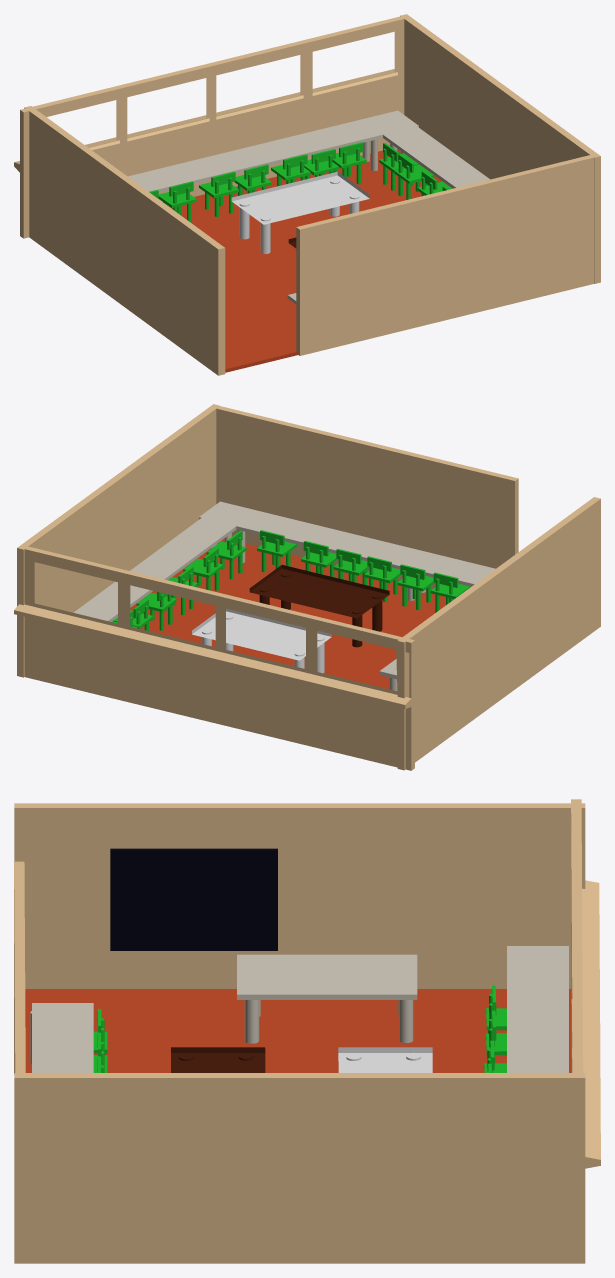
Rendered from info3.glb.
3 views of the same model, one above another, from view 1: azimuth 30°, elevation 25°; view 2: azimuth 150°, elevation 25°; view 3: azimuth 270°, elevation 25° (orthographic). The views are drawn at different scales.
Visible parts, largest first — view 1: Cube.002, Cube, Cube.003, Cube.001, suelo, Cylinder.004, mesa.001, silla.014, silla.002, silla.003, silla.015, silla (+3 smaller); view 2: Cube.003, Cube.002, Cube, Cube.001, suelo, Cylinder.004, mesa, mesa.001, silla.012, silla.008, silla.011, silla.006 (+5 smaller); view 3: Cube.001, Cube, suelo, pantalla, Cylinder.004, mesa_profesor, Cube.003, mesa.001, mesa, Cube.002.
Boxes of the visible parts, x1,y1,x2,y2 form: Cube.002: (296,154,595,355); Cube: (24,106,225,375); Cube.003: (14,16,407,238); Cube.001: (400,14,600,283); suelo: (167,148,452,372); Cylinder.004: (128,110,489,304); mesa.001: (231,171,369,253); silla.014: (199,171,238,216); silla.002: (332,142,366,184); silla.003: (394,154,434,199); silla.015: (158,181,196,222); silla: (271,154,310,186); Cube.003: (14,545,414,770); Cube.002: (215,406,518,588); Cube: (397,497,600,770); Cube.001: (17,404,219,677); suelo: (113,538,454,689); Cylinder.004: (73,501,495,621); mesa: (249,565,389,647); mesa.001: (192,608,331,673); silla.012: (397,564,434,610); silla.008: (257,530,297,572); silla.011: (364,556,401,601); silla.006: (183,547,223,590); Cube.001: (14,1073,585,1263); Cube: (14,803,585,988); suelo: (25,989,572,1072); pantalla: (110,848,277,950); Cylinder.004: (30,946,568,1072); mesa_profesor: (237,954,417,1043); Cube.003: (571,799,600,1168); mesa.001: (338,1047,432,1072); mesa: (171,1047,265,1072); Cube.002: (14,861,25,1074).
Size of the model in its own units: 33.43 by 10.57 by 29.75.
